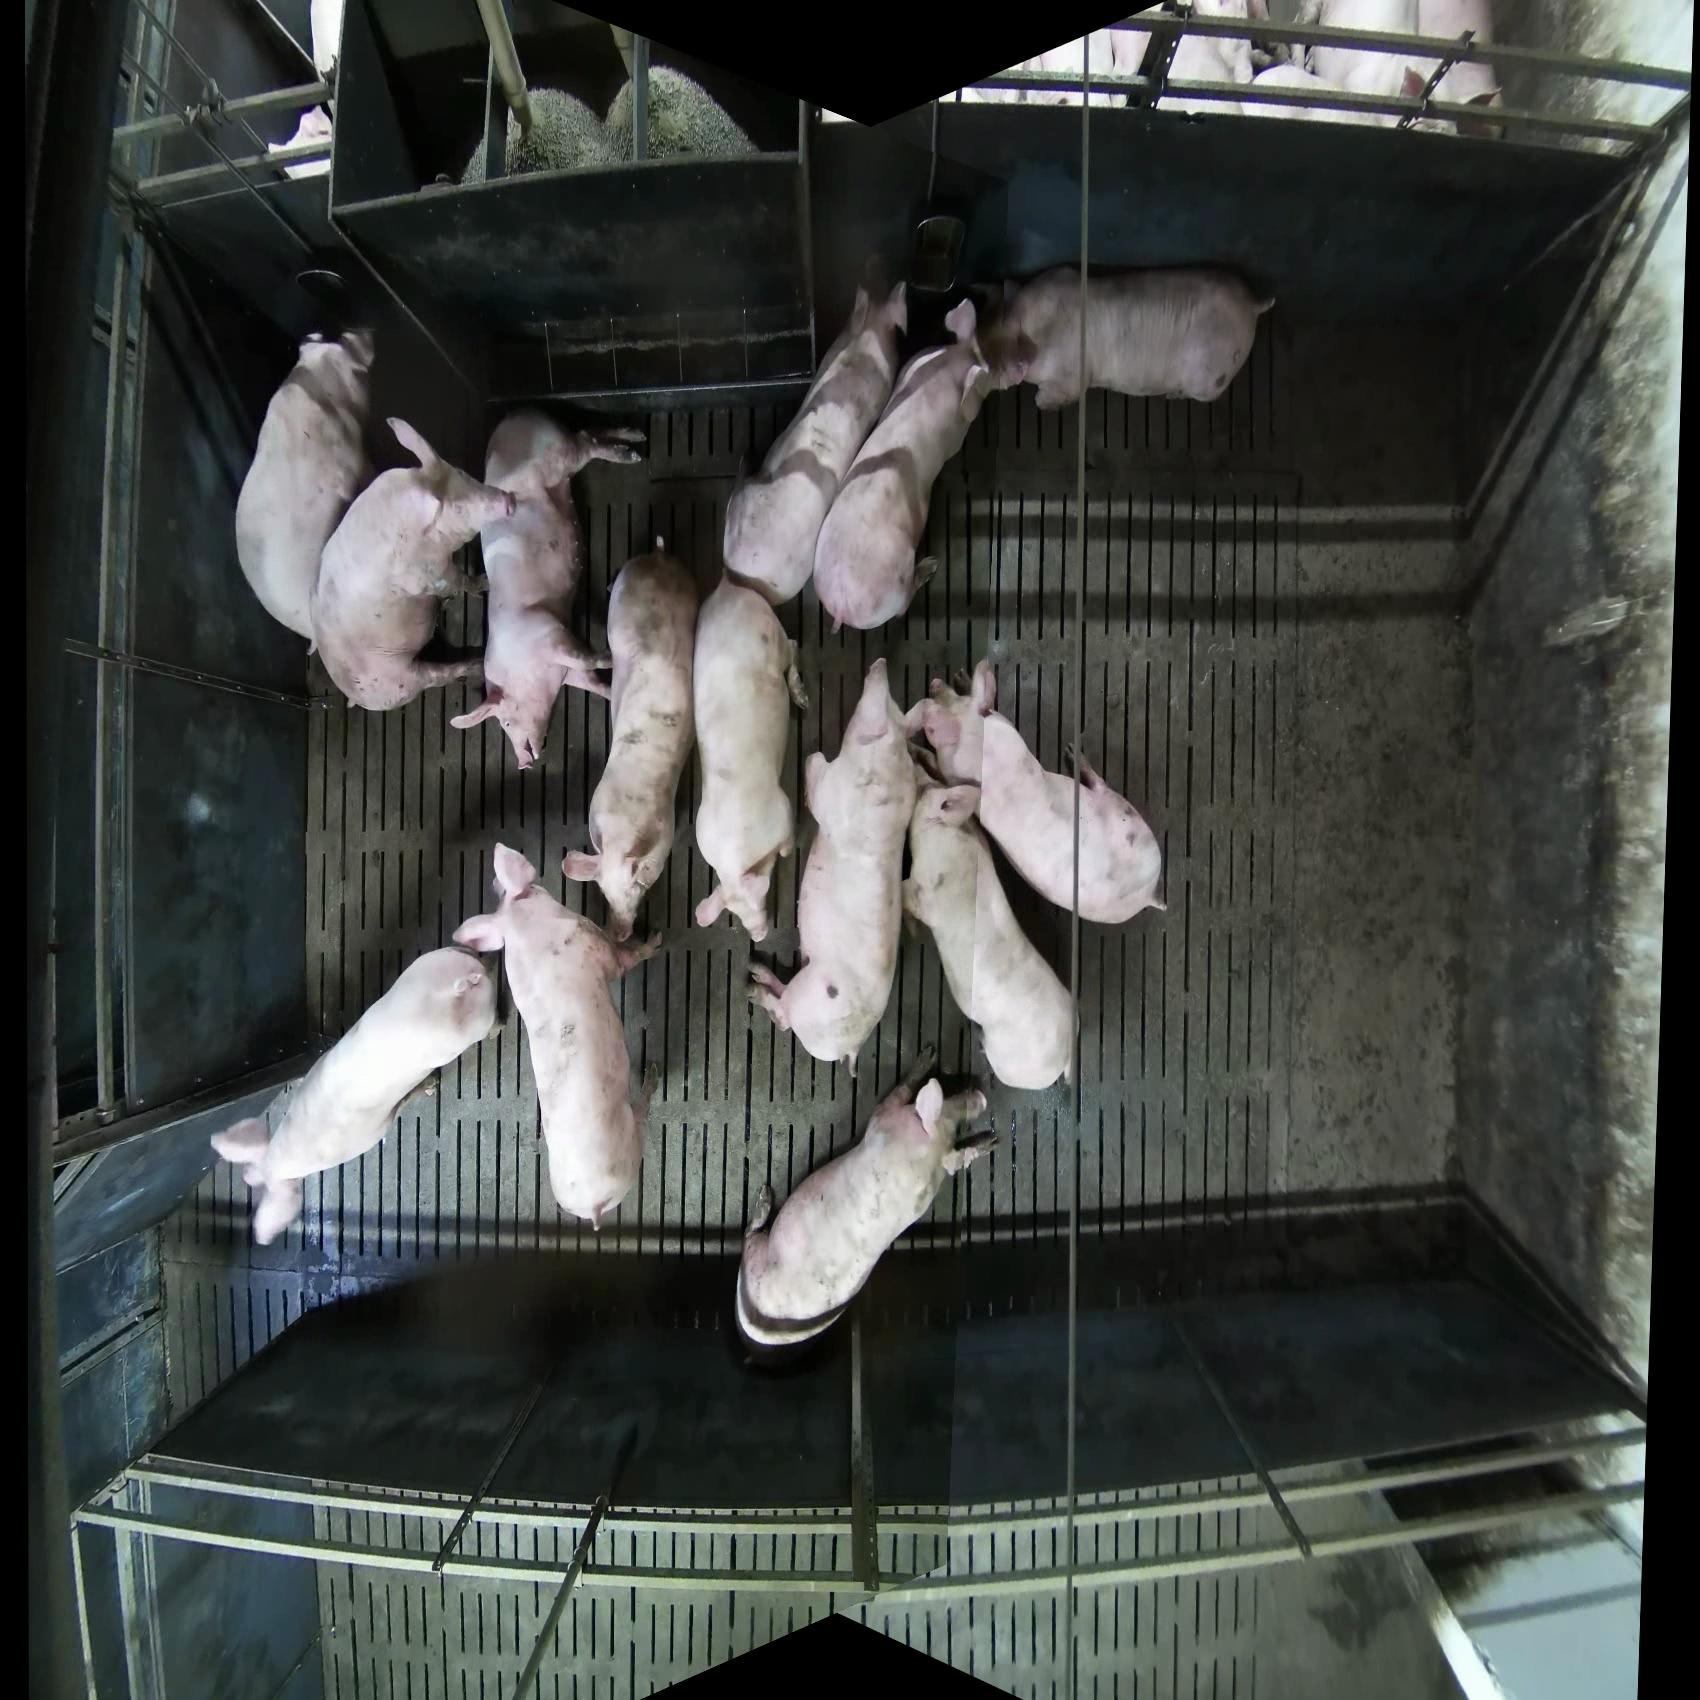pig: (210, 943, 498, 1249), (451, 841, 665, 1231), (733, 1057, 999, 1350), (448, 403, 651, 774), (744, 657, 923, 1076), (908, 659, 1169, 926), (721, 254, 911, 607), (310, 414, 518, 715), (811, 297, 993, 634), (901, 778, 1080, 1091), (560, 546, 701, 945), (965, 262, 1280, 413), (234, 324, 378, 649), (690, 567, 810, 943), (904, 659, 999, 788)
